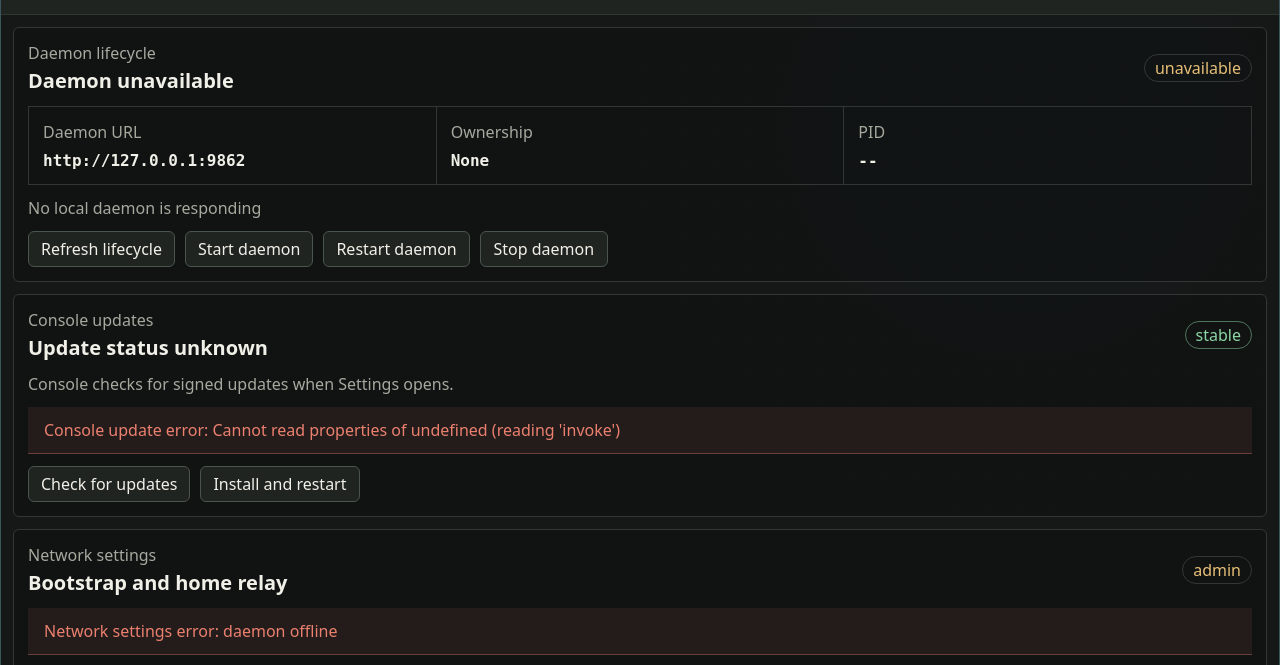
Test case: Console section pages › refreshes network settings after starting the daemon from Settings
Expected: the text "No local daemon is responding" is shown, [28,197,261,219]
Expected: the text "Network settings error: daemon offline" is shown, [28,608,1252,655]
Click the button "Start daemon".
click(249, 249)  # box [185,231,314,267]
(page scrolled)
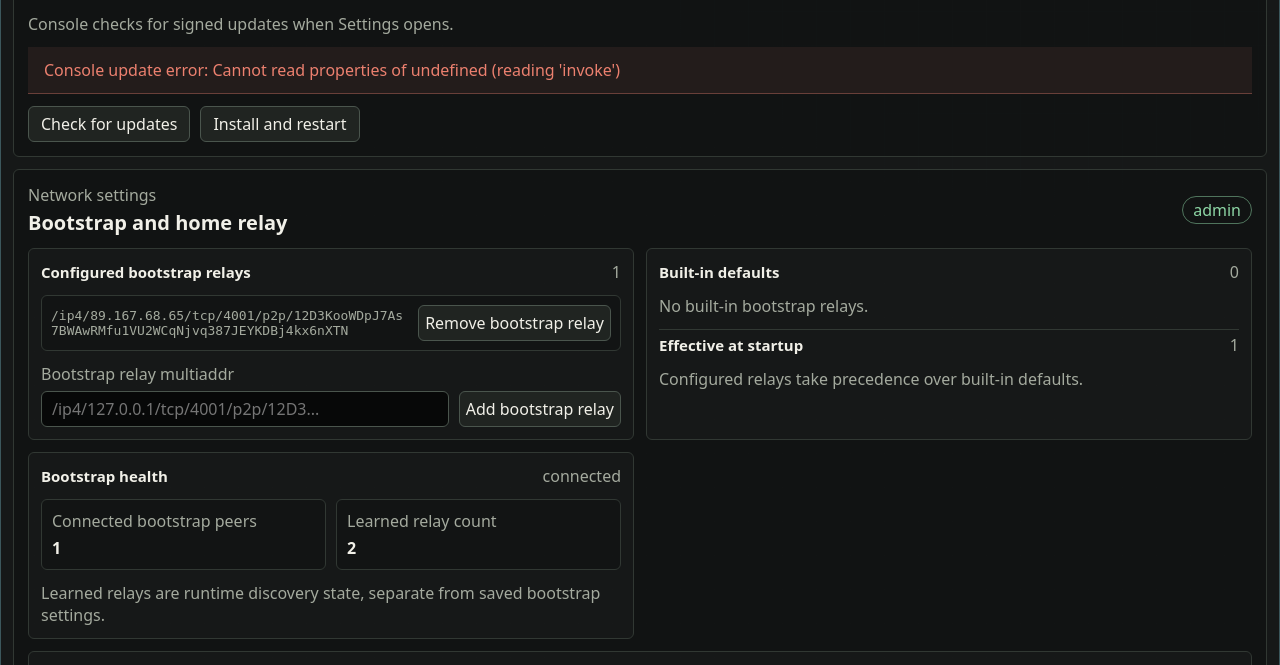
Now the text "/ip4/89.167.68.65/tcp/4001/p2p/12D3KooWDpJ7As7BWAwRMfu1VU2WCqNjvq387JEYKDBj4kx6nXTN" is shown, box [51,308,403,338]
Now the text "daemon offline" is gone
